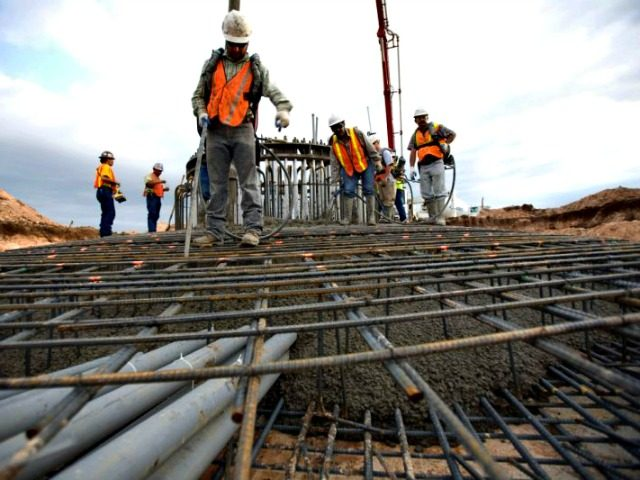hard hat: (222, 10, 252, 43), (329, 114, 343, 128), (365, 133, 379, 144), (99, 151, 115, 160), (413, 109, 429, 117), (153, 162, 163, 170)
high-vis: (203, 48, 257, 129), (330, 128, 368, 174), (413, 124, 444, 161), (95, 164, 116, 188), (145, 173, 163, 197)
